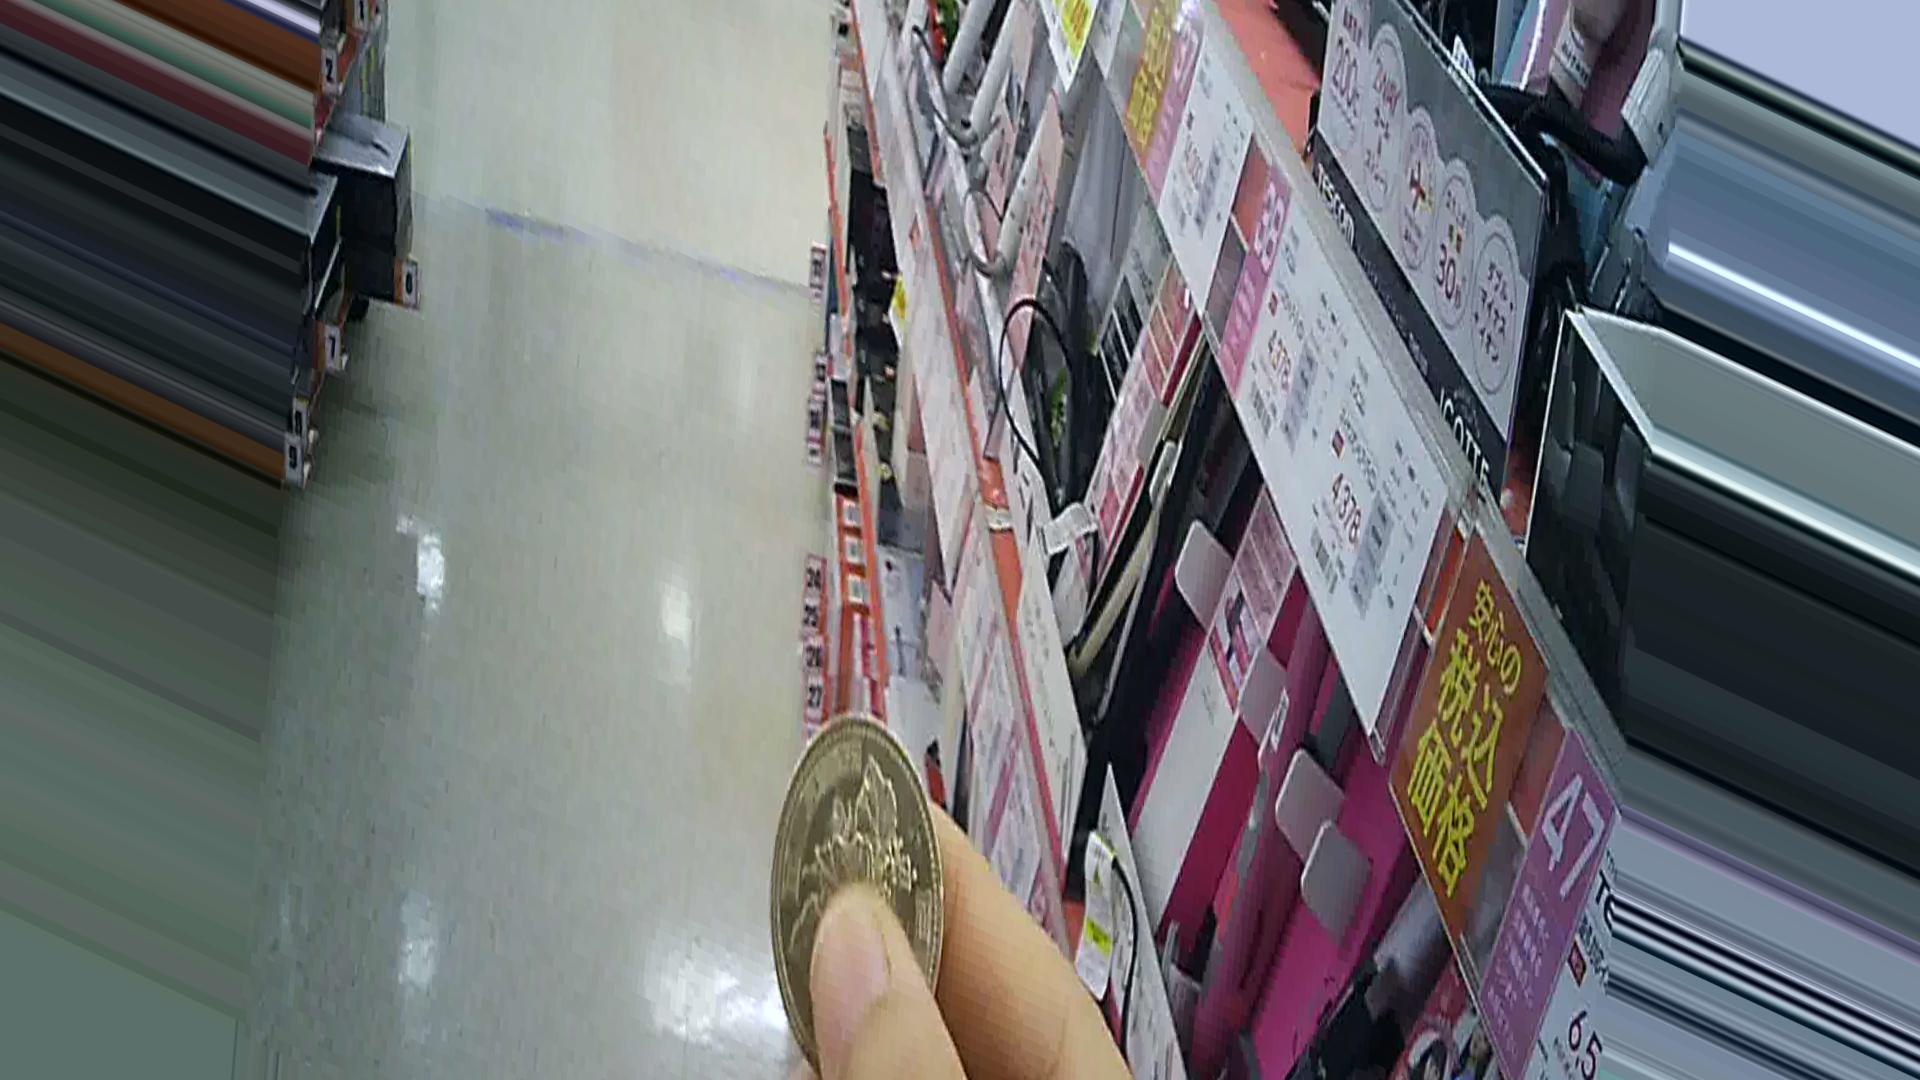500 Yen: (742, 703, 956, 1036)
